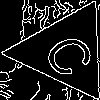C: (40, 26, 100, 81)
